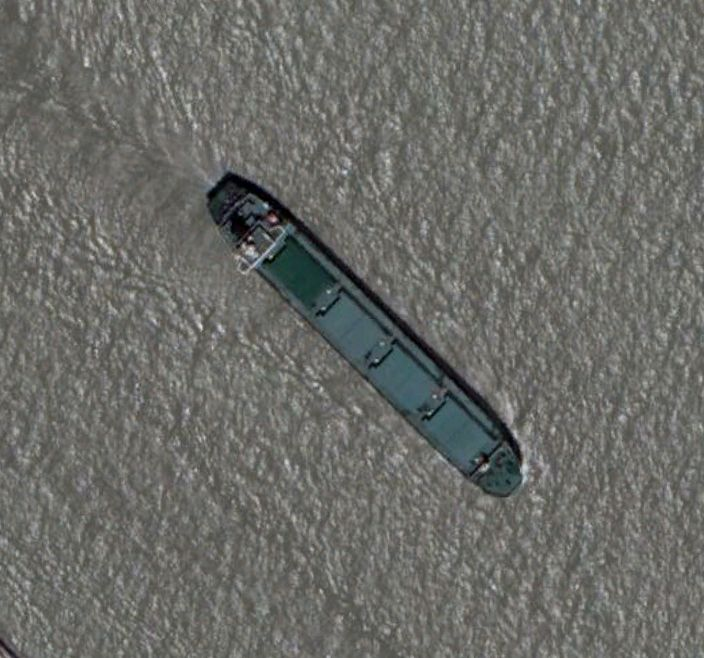boat: (202, 167, 527, 500)
